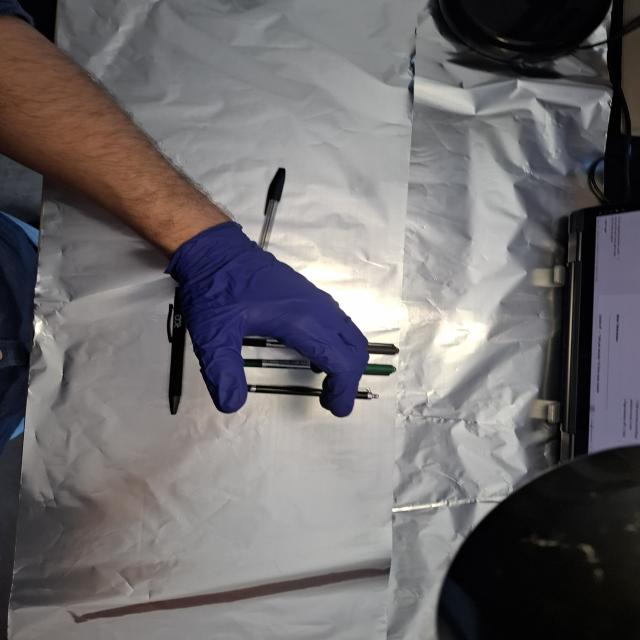glove_on: (158, 221, 374, 420)
